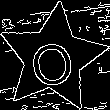O_N: (27, 29, 79, 88)
